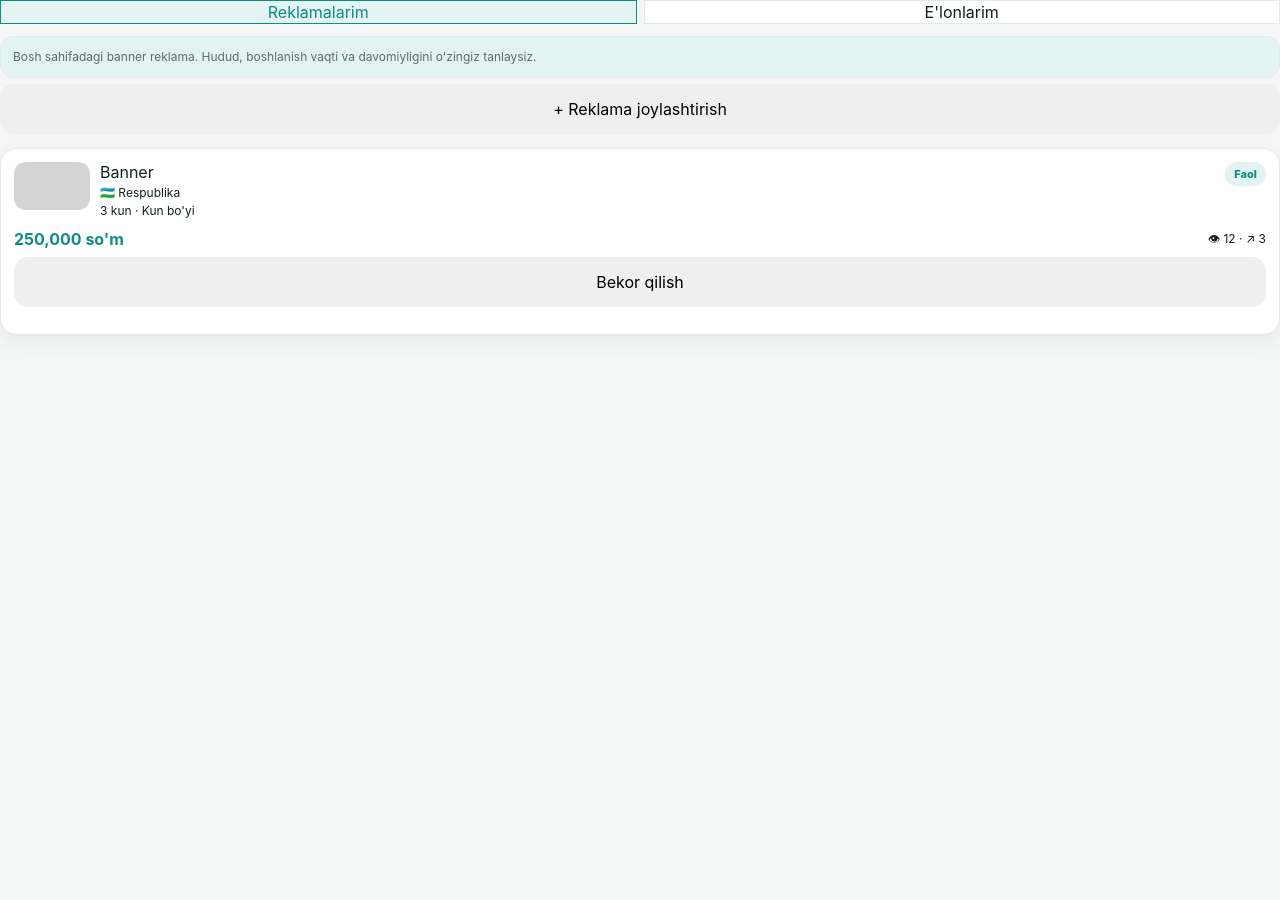
Scenario: v1656 mavjud Onlaynlashtirish ekranlari pariteti › Reklamalar ro'yxatini cab-elon reklama tabi va aniq bekor qilish tasdig'i bilan ko'rsatadi
This screenshot has width=1280, height=900.
Check: the element with class "ad-own-card" is shown, box 0,148 -> 1279,335
Click the button "Bekor qilish" at (640, 282), box 14,257 -> 1266,307
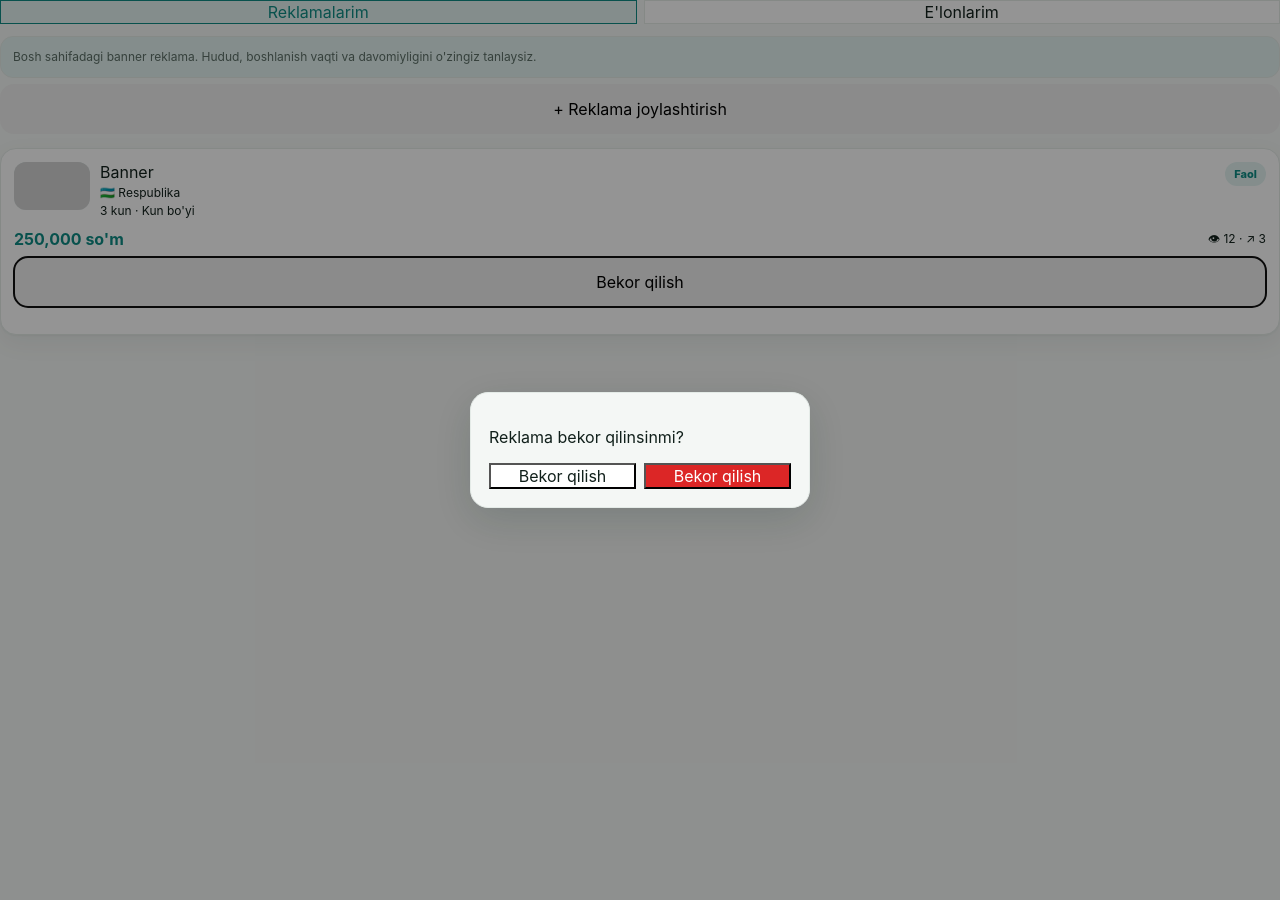
Check: the dialog shows "Reklama bekor qilinsinmi?", box 489,427 -> 684,447
